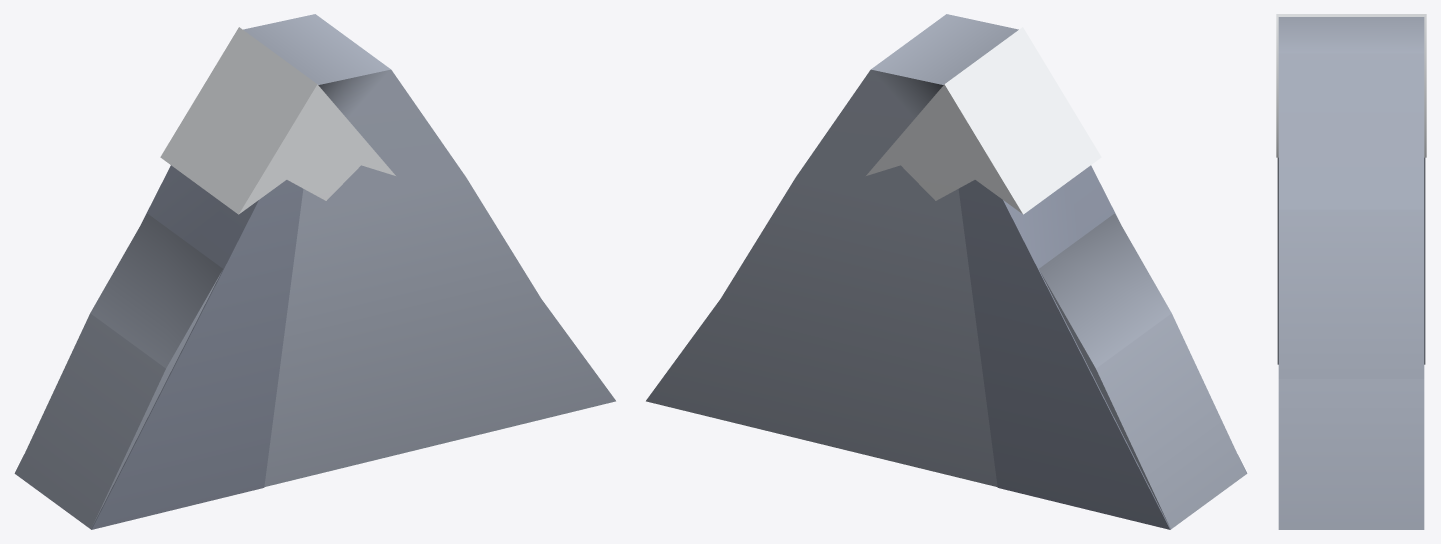
Rendered from Mountain_Peak1.fbx.
3 renders of one model, left to right at view 1: azimuth 30°, elevation 25°; view 2: azimuth 150°, elevation 25°; view 3: azimuth 270°, elevation 25°, orthographic. The views are drawn at different scales.
Visible parts, largest first — view 1: Mountain_Peak1; view 2: Mountain_Peak1; view 3: Mountain_Peak1.
Part boxes in pixels (x1=…): Mountain_Peak1: x1=14, y1=14, x2=615, y2=529; Mountain_Peak1: x1=646, y1=14, x2=1247, y2=529; Mountain_Peak1: x1=1276, y1=14, x2=1426, y2=529.
Size of the model in its own units: 12 by 8.54 by 3.1.
